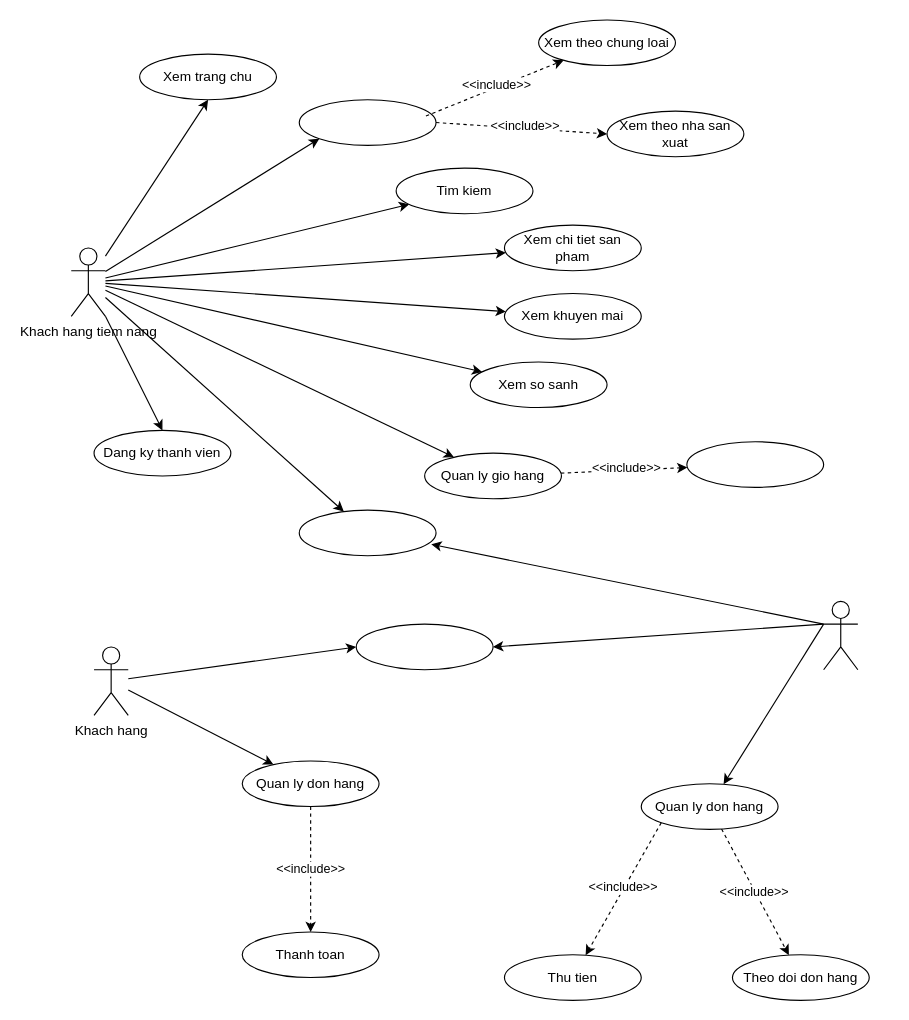
Some shapes in this 909 by 1020 pixel diagram are drawn without their labels. The shapes that lost their labels are listed below. From the top down, each one's centre as x and y in pixels, then its label:
(x=367, y=122): Xem san pham
(x=755, y=464): Mua hang
(x=367, y=532): Chat
(x=424, y=646): Dang nhap
(x=840, y=635): Nguoi ban hang
